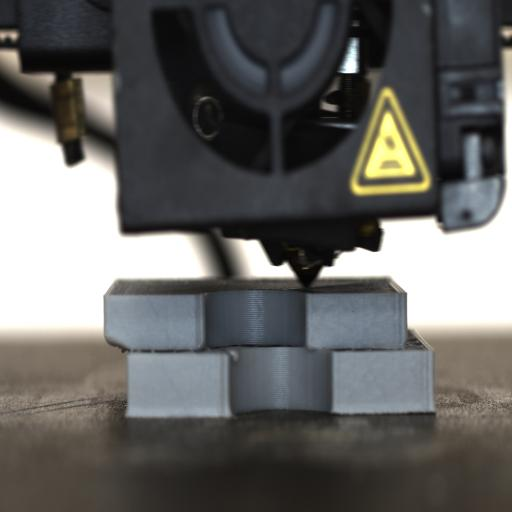layer_shift: (104, 334, 432, 360)
